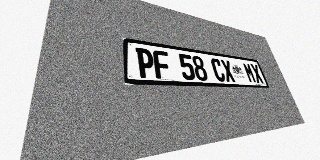5: (178, 53, 196, 80)
8: (191, 55, 209, 81)
C: (210, 58, 227, 82)
F: (152, 50, 172, 79)
M: (242, 62, 257, 83)
P: (135, 47, 155, 78)
X: (220, 59, 236, 82), (250, 64, 264, 83)
